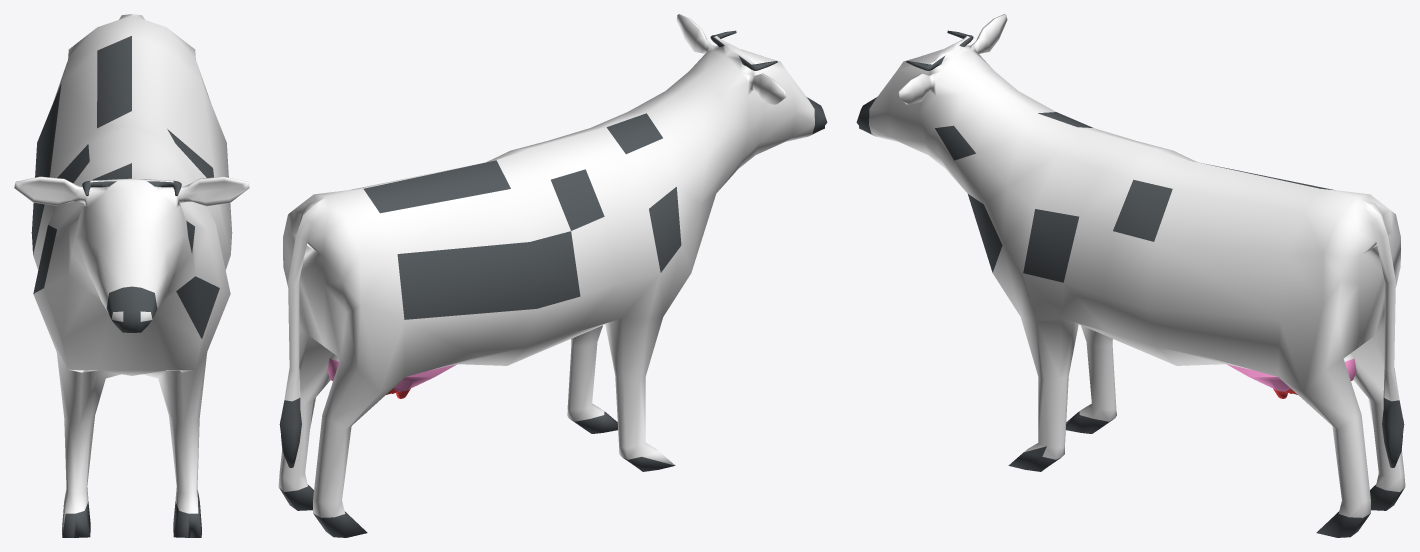
Rendered from Toy134.fbx.
3 views of the same model, side by side, from view 1: azimuth 30°, elevation 25°; view 2: azimuth 150°, elevation 25°; view 3: azimuth 270°, elevation 25° (orthographic). The views are drawn at different scales.
Parts seen in each view (by area): view 1: Toy134; view 2: Toy134; view 3: Toy134.
Boxes of the visible parts, x1,y1,x2,y2 form: Toy134: (14, 14, 249, 537); Toy134: (278, 14, 827, 537); Toy134: (856, 14, 1405, 537).
Size of the model in its own units: 0.1821 by 0.1914 by 0.2557.
